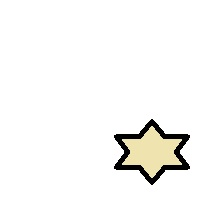star: (114, 119, 190, 185)
